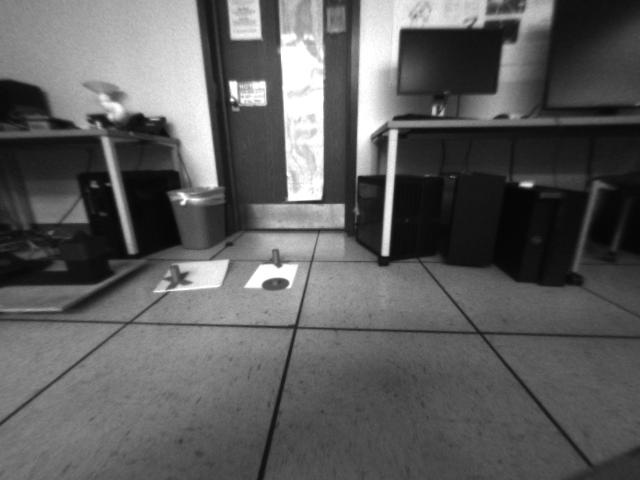X: (160, 261, 197, 291), (268, 250, 290, 266)
